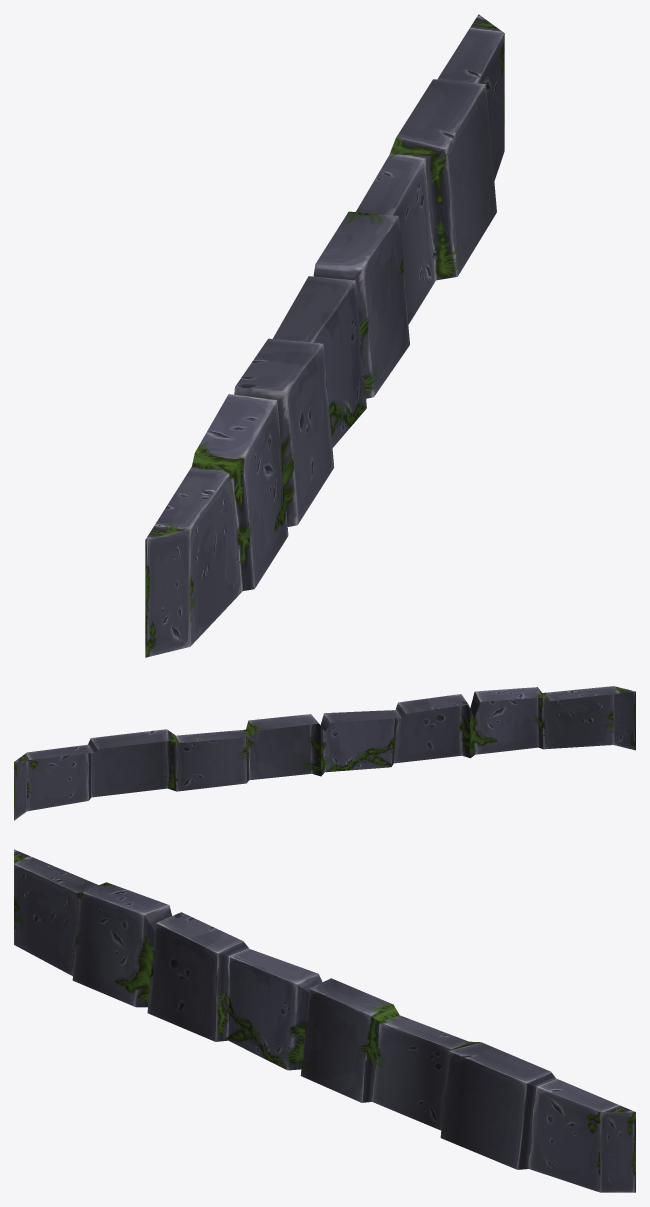
File: MOD_WallTrim_01_E_angle_1.fbx
The picture shows the model from 3 angles, top to bottom: view 1: azimuth 30°, elevation 25°; view 2: azimuth 150°, elevation 25°; view 3: azimuth 270°, elevation 25°; orthographic projection. The views are drawn at different scales.
Parts seen in each view (by area): view 1: MOD_WallTrim_01_E_angle_1; view 2: MOD_WallTrim_01_E_angle_1; view 3: MOD_WallTrim_01_E_angle_1.
Boxes of the visible parts, bbox=[...] form: MOD_WallTrim_01_E_angle_1: bbox=[145, 14, 504, 657]; MOD_WallTrim_01_E_angle_1: bbox=[14, 686, 635, 820]; MOD_WallTrim_01_E_angle_1: bbox=[14, 849, 635, 1192].
Bounding box in the file's own units: 350 × 56.15 × 350.
